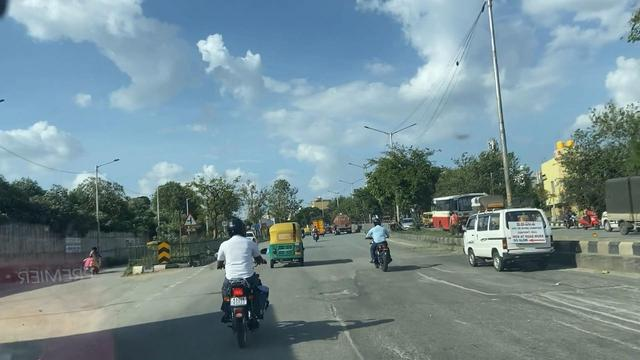RoadDamages: (472, 274, 638, 350), (318, 296, 368, 360), (292, 276, 368, 302)
